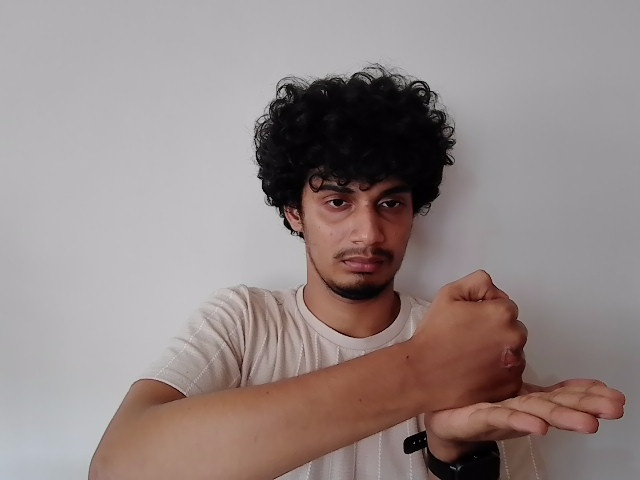help: (411, 268, 632, 452)
